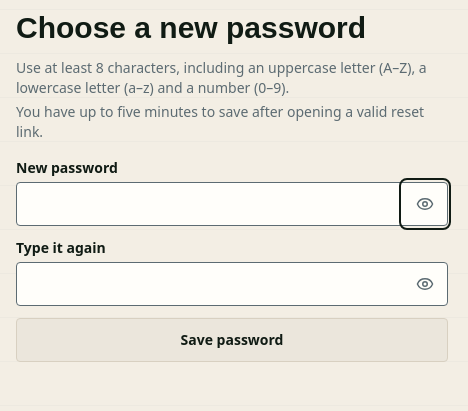
Scenario: shows the implemented rules before the form and keeps the password controls accessible
Expected: the text "up to five minutes to save after opening a valid reset link" is shown, [16,102,424,141]
Expected: the button "Save password" is disabled, [16,318,448,362]
Click the button named "Show new password": x=425, y=204 [403,182,447,226]
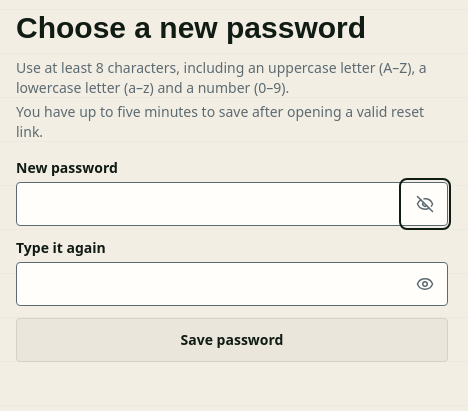
Click the button named "Hide new password": x=425, y=204 [403,182,447,226]
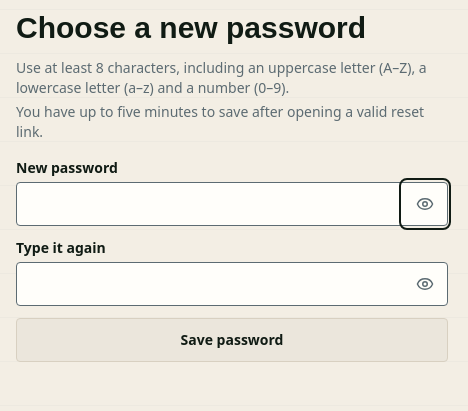
In the password field labelled "New password": x=232, y=204 [16,182,448,226], type "weak1234"
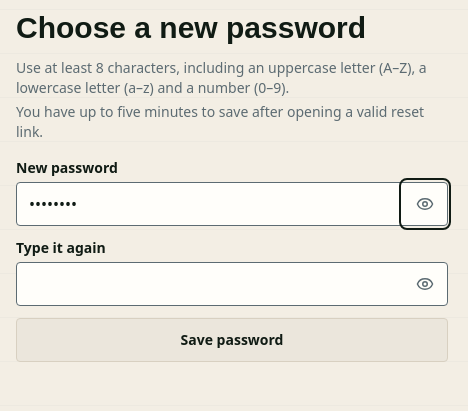
In the password field labelled "Type it again": x=232, y=284 [16,262,448,306], type "weak1234"
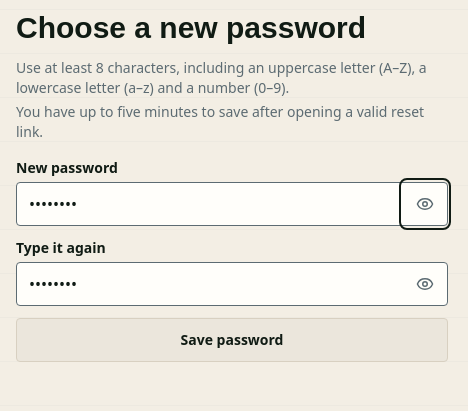
Expected: the button "Save password" is disabled, [16,318,448,362]
In the password field labelled "New password": x=232, y=204 [16,182,448,226], type "InertPass123!"
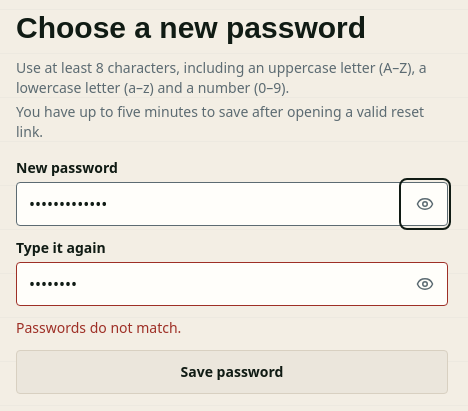
In the password field labelled "Type it again": x=232, y=284 [16,262,448,306], type "InertPass123!"
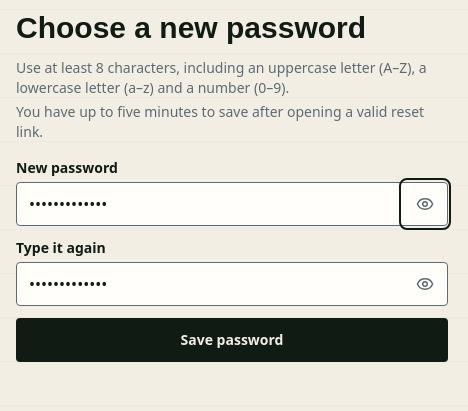
Expected: the button "Save password" is enabled, [16,318,448,362]
